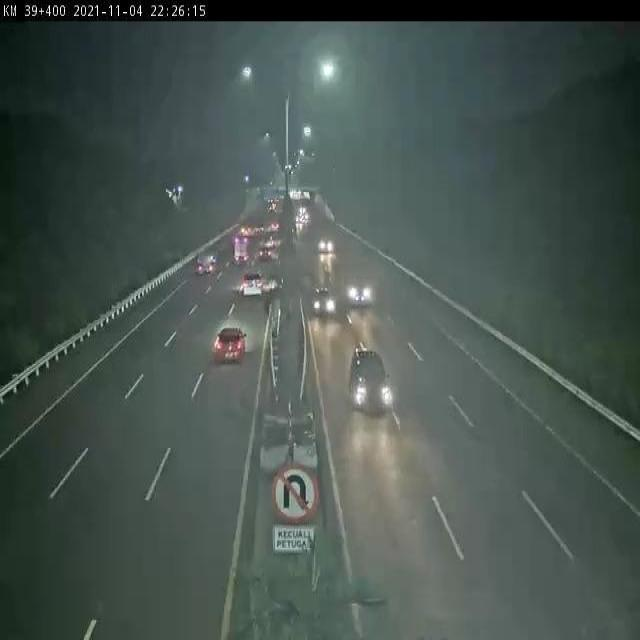Car: (349, 349, 392, 414), (214, 327, 247, 365), (347, 281, 373, 308), (312, 288, 336, 317), (242, 271, 263, 297), (318, 238, 334, 254), (258, 246, 273, 261)
Truck: (233, 242, 248, 263)
